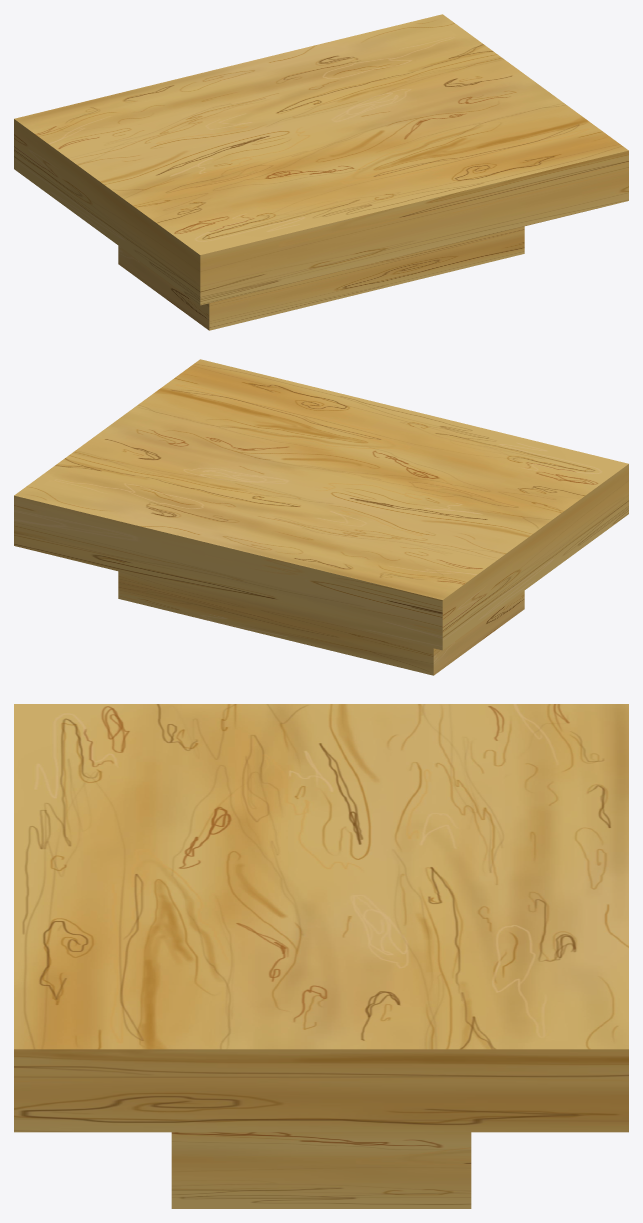
File: table_short.fbx
3 views of the same model, one above another, from view 1: azimuth 30°, elevation 25°; view 2: azimuth 150°, elevation 25°; view 3: azimuth 270°, elevation 25° (orthographic). The views are drawn at different scales.
Parts seen in each view (by area): view 1: pCube17; view 2: pCube17; view 3: pCube17.
Part boxes in pixels (bbox=[...]): pCube17: bbox=[14, 14, 628, 330]; pCube17: bbox=[14, 359, 628, 675]; pCube17: bbox=[14, 704, 628, 1208].
Size of the model in its own units: 18.82 by 5.22 by 14.17.
1 material, 1 textured.
